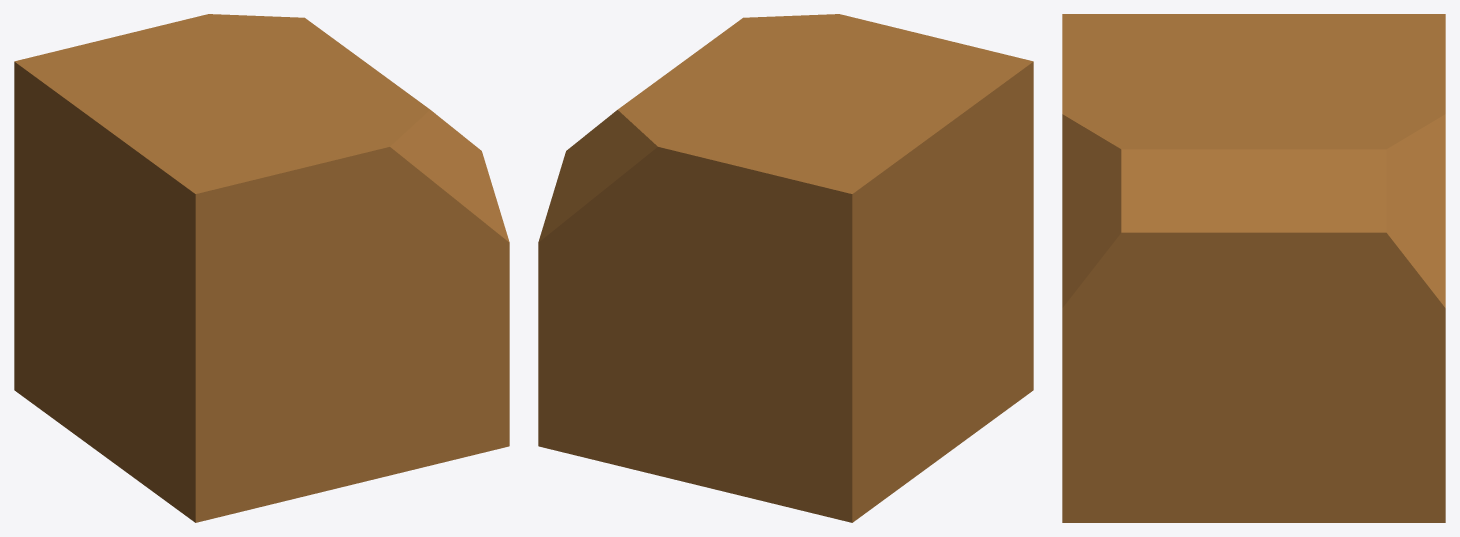
File: BLOKS1.fbx
The picture shows the model from 3 angles, left to right: view 1: azimuth 30°, elevation 25°; view 2: azimuth 150°, elevation 25°; view 3: azimuth 270°, elevation 25°; orthographic projection. The views are drawn at different scales.
Parts seen in each view (by area): view 1: Cube.001; view 2: Cube.001; view 3: Cube.001.
Part boxes in pixels (x1,y1,x2,y2): Cube.001: [14, 14, 509, 522]; Cube.001: [538, 14, 1033, 522]; Cube.001: [1062, 14, 1445, 522].
Size of the model in its own units: 200 by 200 by 200.
